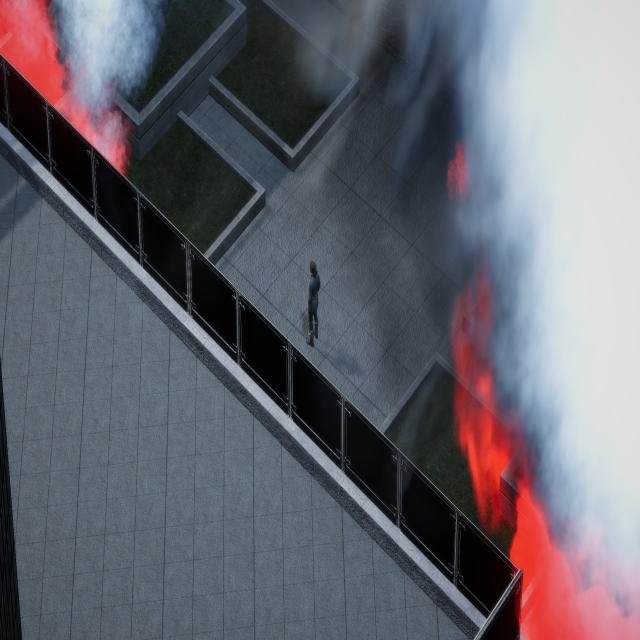Human: (303, 256, 325, 356)
